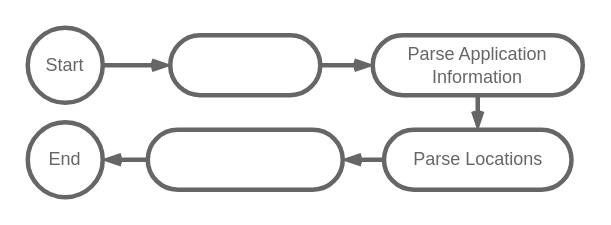
The diagram is 611 pixels wide and 225 high, and some of its shapes have lost their labels. Here are the shapes that lost their labels. From the top down, the centre of each, then its label:
point (244, 64): Load YAML file
point (244, 159): Return data structure
